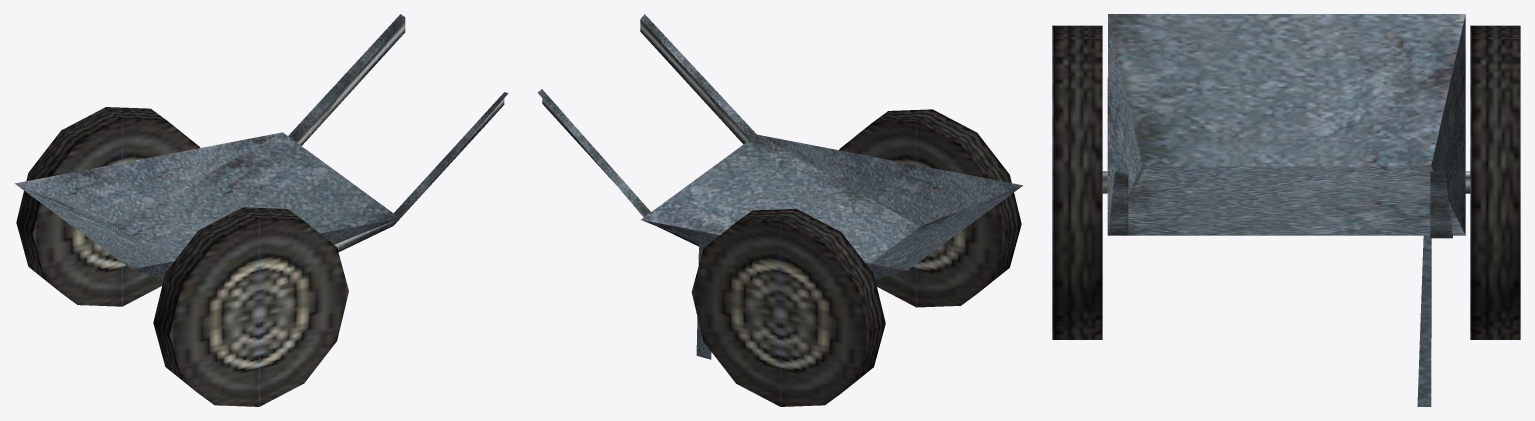
File: hndcrt.glb
3 renders of one model, left to right at view 1: azimuth 30°, elevation 25°; view 2: azimuth 150°, elevation 25°; view 3: azimuth 270°, elevation 25°, orthographic. The views are drawn at different scales.
Visible parts, largest first — view 1: _hndcrt; view 2: _hndcrt; view 3: _hndcrt.
Part boxes in pixels (x1,y1,x2,y2): _hndcrt: [14, 14, 508, 406]; _hndcrt: [537, 14, 1022, 406]; _hndcrt: [1052, 14, 1520, 406].
Bounding box in the file's own units: 1.63 × 0.9536 × 1.14.
1 material, 1 textured.
